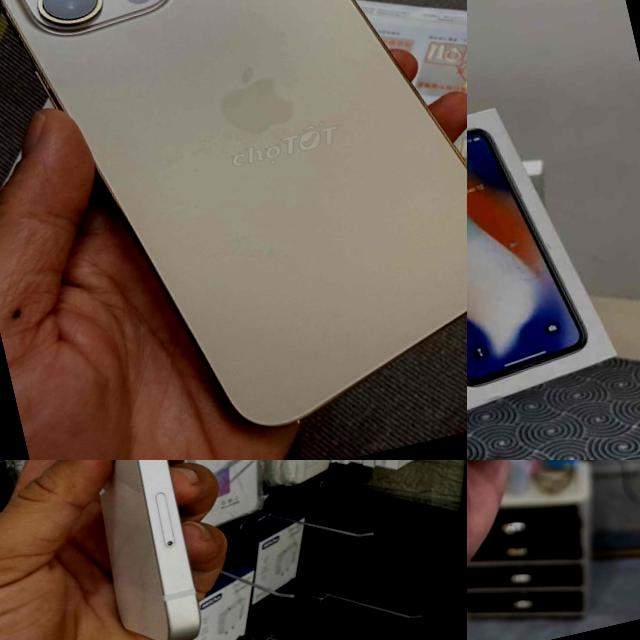gen_12_13: (0, 0, 467, 460), (40, 460, 233, 640)
